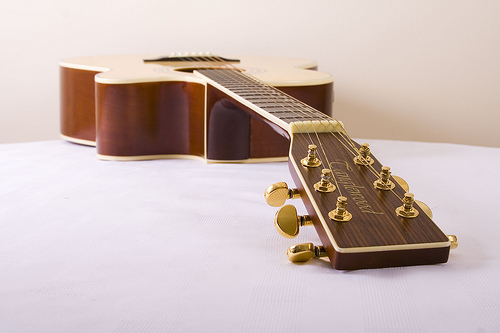guitar: (55, 49, 459, 273)
